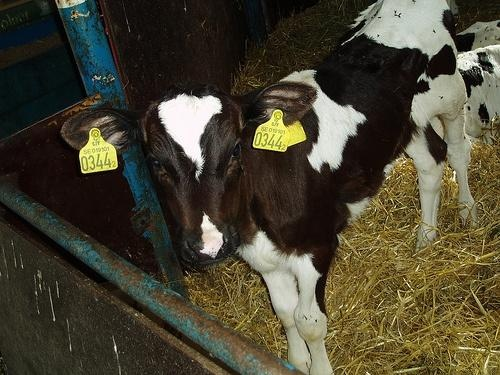cow: (58, 1, 479, 375)
